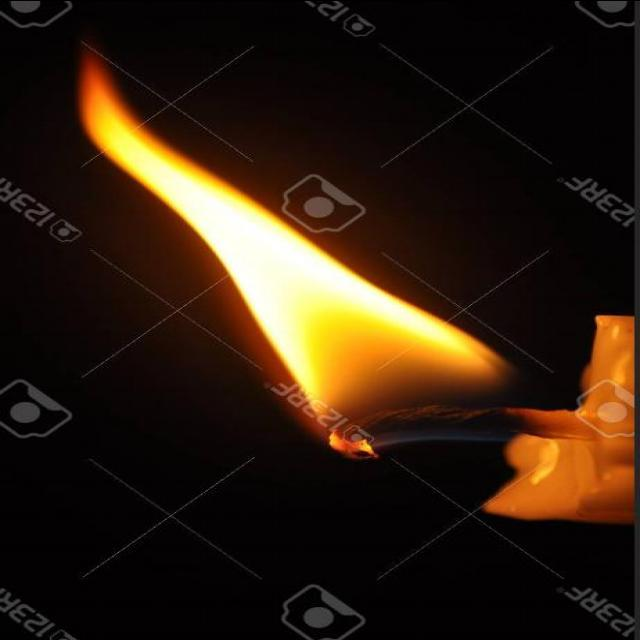Fire: (80, 50, 520, 454)
